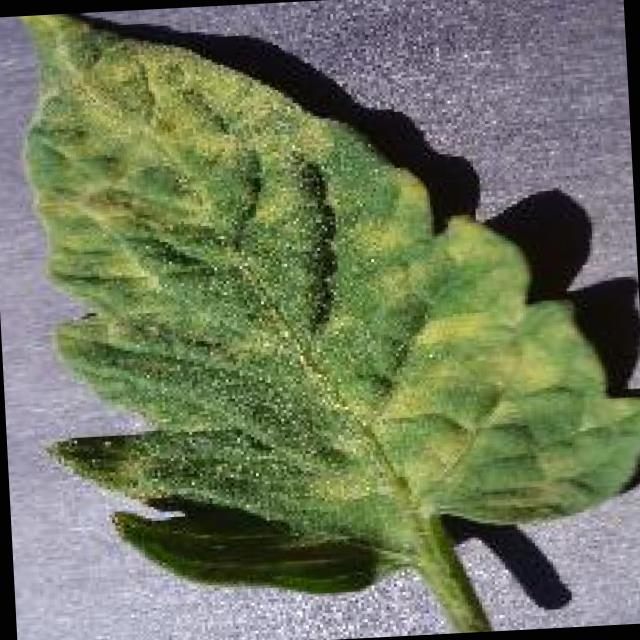leaf mold: (17, 13, 640, 633)
